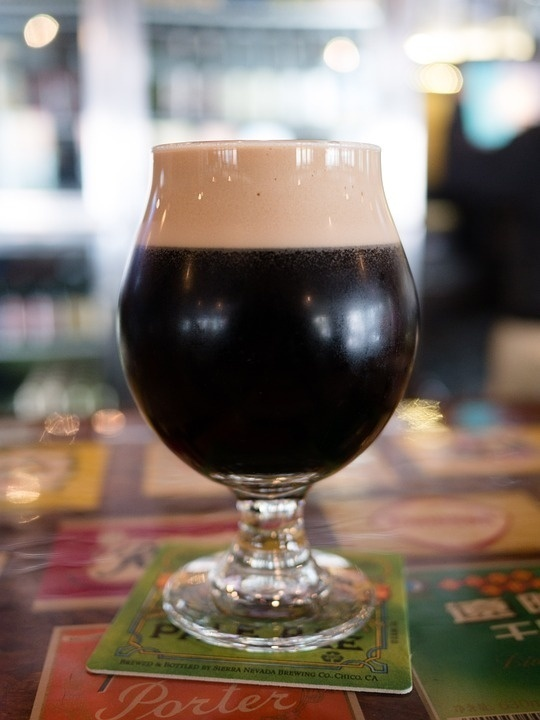whiskey: (125, 152, 405, 617)
